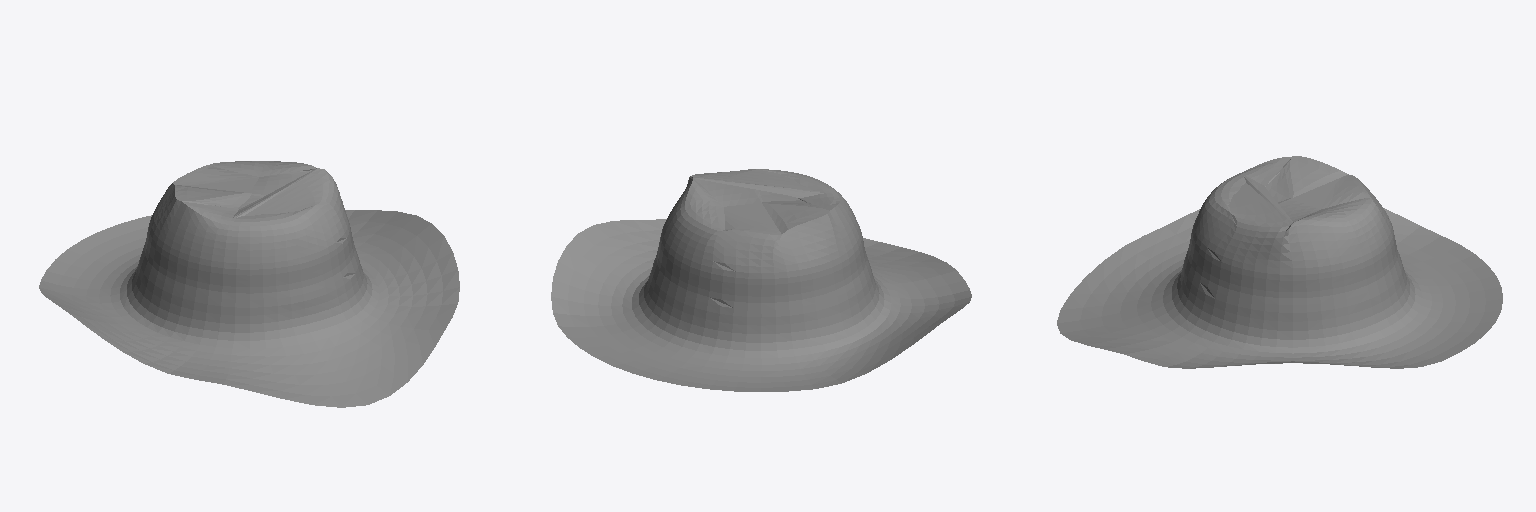
Rendered from hat.obj.
3 views of the same model, side by side, from view 1: azimuth 30°, elevation 25°; view 2: azimuth 150°, elevation 25°; view 3: azimuth 270°, elevation 25° (orthographic).
Visible parts, largest first — view 1: NGon001; view 2: NGon001; view 3: NGon001.
Part boxes in pixels (left/top/right/bottom): NGon001: left=39, top=161, right=459, bottom=407; NGon001: left=551, top=169, right=971, bottom=391; NGon001: left=1057, top=156, right=1502, bottom=368.
Bounding box in the file's own units: 141 × 50.02 × 150.